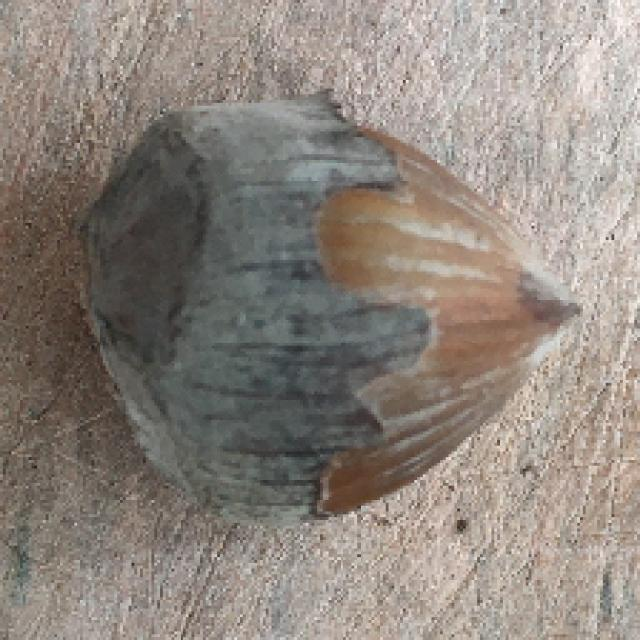damagedHazelnut: (64, 87, 600, 531)
